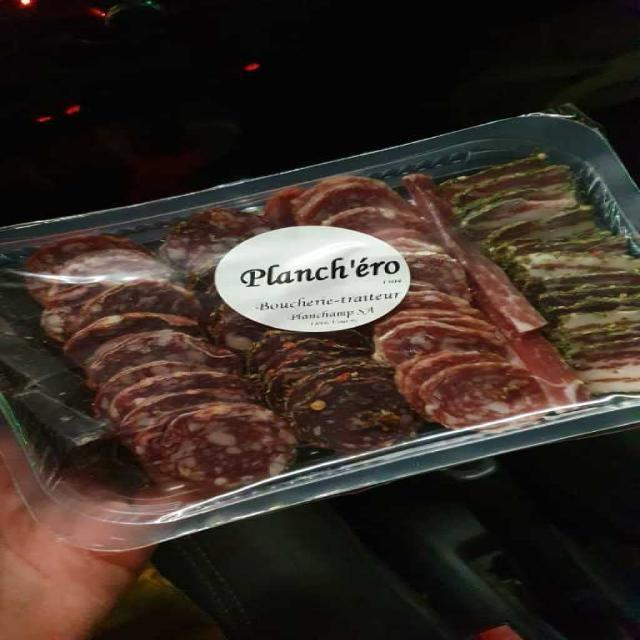dried-meat: (33, 173, 631, 486)
